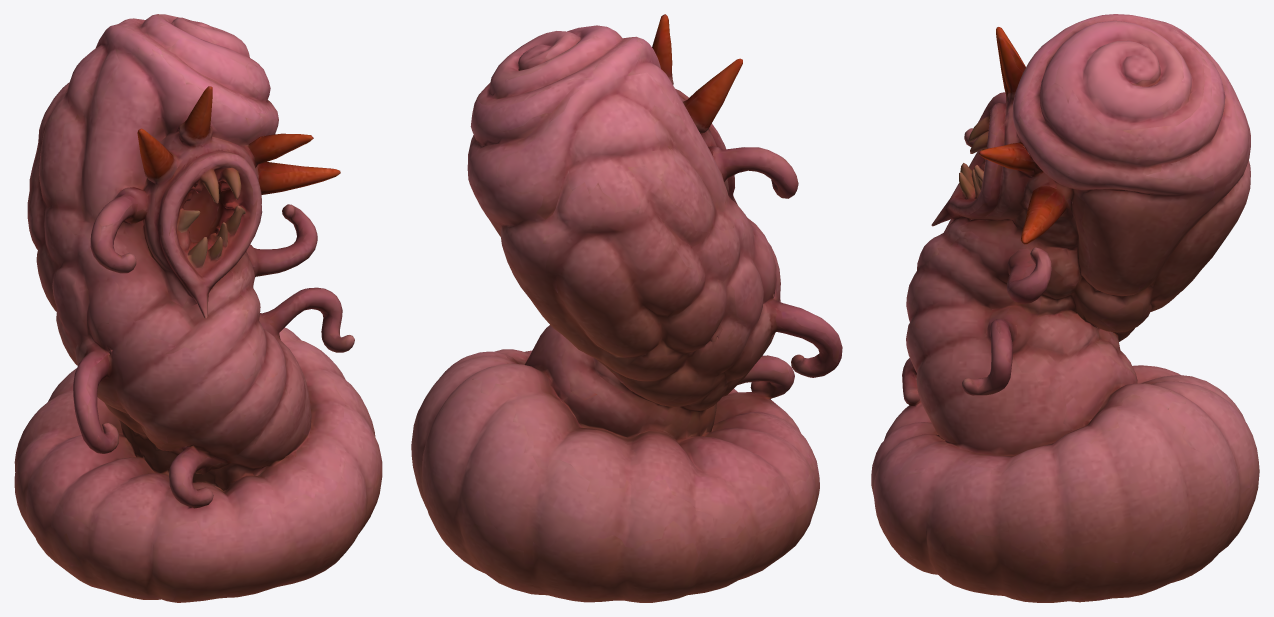
Rendered from SARGH1_2026-08-14T124250.846.glb.
3 views of the same model, side by side, from view 1: azimuth 30°, elevation 25°; view 2: azimuth 150°, elevation 25°; view 3: azimuth 270°, elevation 25° (orthographic). The views are drawn at different scales.
Visible parts, largest first — view 1: world; view 2: world; view 3: world.
Boxes of the visible parts, left/top/right/bottom form: world: left=14, top=14, right=382, bottom=602; world: left=411, top=14, right=842, bottom=602; world: left=871, top=14, right=1259, bottom=602.
Bounding box in the file's own units: 0.683 × 1 × 0.6757.
1 material, 1 textured.
